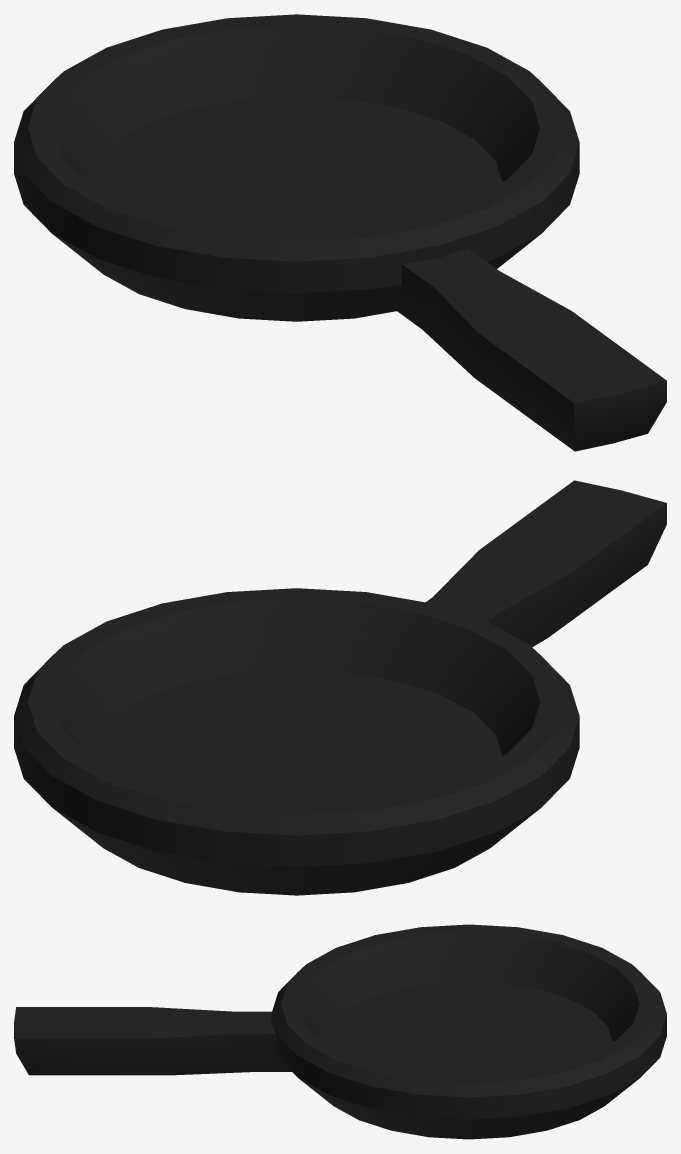
Rendered from Environment_Pan.fbx.
3 renders of one model, top to bottom at view 1: azimuth 30°, elevation 25°; view 2: azimuth 150°, elevation 25°; view 3: azimuth 270°, elevation 25°, orthographic. The views are drawn at different scales.
Visible parts, largest first — view 1: Environment_Pan; view 2: Environment_Pan; view 3: Environment_Pan.
Boxes of the visible parts, x1=… form: Environment_Pan: x1=14, y1=14, x2=666, y2=451; Environment_Pan: x1=14, y1=480, x2=666, y2=895; Environment_Pan: x1=14, y1=924, x2=666, y2=1139.
Bounding box in the file's own units: 125 × 24.28 × 207.
